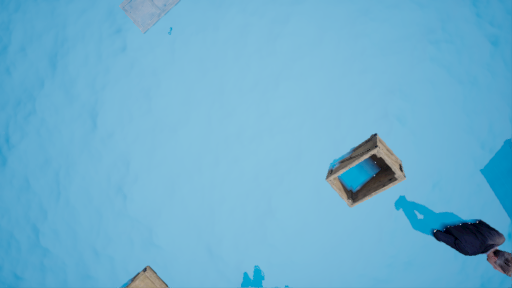person: (399, 197, 512, 269)
